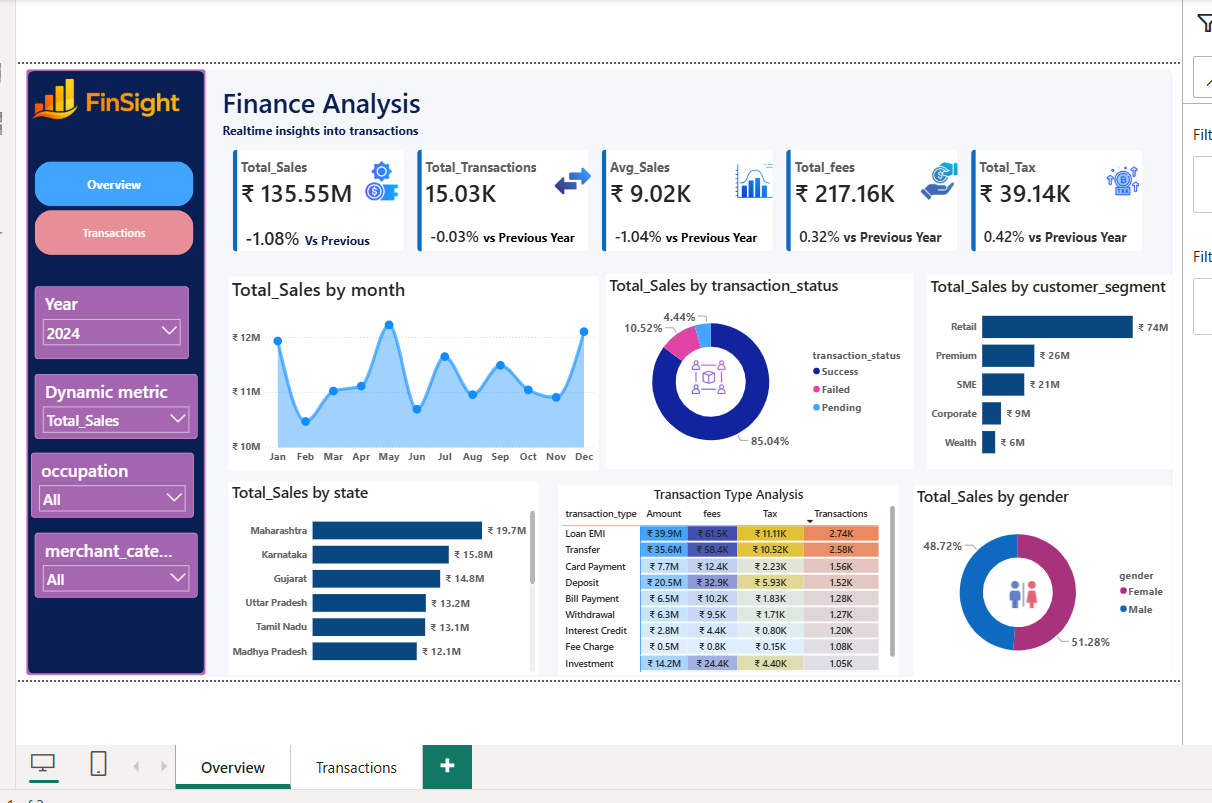

The page's visual inventory and layout, read from the dashboard file:
{"tool":"powerbi","page":{"name":"Overview","canvas":[1800,950],"ordinal":0},"visuals":[{"type":"shape","box":[15.4,7.7,277.9,935.9],"z":0},{"type":"shape","box":[293.3,9.6,1491.6,935.9],"z":1000},{"type":"image","box":[14.7,0,251.8,109.6],"z":2000},{"type":"cardVisual","fields":{"Data":["customers.Dashboard Title"]},"box":[312.6,19.3,422.6,106.1],"z":3000},{"type":"cardVisual","fields":{"Data":["measures (2).Total_Sales","measures (2).Total_Transactions","measures (2).Avg_Sales","measures (2).Total_fees","measures (2).Total_Tax"]},"box":[328,125.4,1420.2,170],"z":4000},{"type":"slicer","fields":{"Values":["calender table.Year"]},"box":[28.9,343.5,237.4,111.9],"z":5000},{"type":"image","box":[524.9,150.5,79.1,59.8],"z":6000},{"type":"image","box":[820.1,150.5,79.1,59.8],"z":7000},{"type":"image","box":[1099.9,150.5,79.1,59.8],"z":8000},{"type":"image","box":[1385.5,150.5,79.1,59.8],"z":9000},{"type":"image","box":[1669.2,150.5,79.1,59.8],"z":10000},{"type":"slicer","fields":{"Values":["Dynamic metric.Dynamic metric"]},"box":[28.9,478.6,250.9,100.3],"z":11000},{"type":"areaChart","fields":{"Y":["measures (2).Total_Sales"],"Category":["calender table.month"]},"box":[328,328,571.2,299.1],"z":12000},{"type":"donutChart","fields":{"Y":["measures (2).Total_Sales"],"Category":["finance_transactions.transaction_status"]},"box":[910.8,324.2,474.7,301],"z":13000},{"type":"clusteredBarChart","fields":{"Y":["measures (2).Total_Sales"],"Category":["customers.customer_segment"]},"box":[1406.7,326.1,378.2,299.1],"z":14000},{"type":"clusteredBarChart","fields":{"Y":["measures (2).Total_Sales"],"Category":["customers.state"]},"box":[328,644.5,478.6,299.1],"z":15000},{"type":"pivotTable","title":"Transaction Type Analysis","fields":{"Rows":["finance_transactions.transaction_type"],"Values":["measures (2).Total_Sales","measures (2).Total_fees","measures (2).Total_Tax","measures (2).Total_Transactions"]},"box":[837.5,650.3,524.9,293.3],"z":16000},{"type":"donutChart","fields":{"Y":["measures (2).Total_Sales"],"Category":["customers.gender"]},"box":[1385.5,650.3,399.4,299.1],"z":17000},{"type":"image","box":[1038.2,455.4,61.7,56],"z":18000},{"type":"image","box":[1524.4,795,61.7,48.2],"z":19000},{"type":"slicer","fields":{"Values":["customers.occupation"]},"box":[23.2,600.1,250.9,100.3],"z":20000},{"type":"slicer","fields":{"Values":["finance_transactions.merchant_category"]},"box":[28.9,723.6,250.9,100.3],"z":21000},{"type":"pageNavigator","box":[28.9,150.5,245.1,144.7],"z":22000}]}

Visuals, with their boxes on the page's 1800x950 design canvas (x1, y1, x2, y2). These are canvas units, not pixel positions in the 1212x803 screenshot, which may show the page scaled, cropped or inside an application window:
shape: (left=15, top=8, right=293, bottom=944)
shape: (left=293, top=10, right=1785, bottom=946)
image: (left=15, top=0, right=266, bottom=110)
cardVisual - customers.Dashboard Title: (left=313, top=19, right=735, bottom=125)
cardVisual - measures (2).Total_Sales x measures (2).Total_Transactions: (left=328, top=125, right=1748, bottom=295)
slicer - calender table.Year: (left=29, top=344, right=266, bottom=455)
image: (left=525, top=150, right=604, bottom=210)
image: (left=820, top=150, right=899, bottom=210)
image: (left=1100, top=150, right=1179, bottom=210)
image: (left=1386, top=150, right=1465, bottom=210)
image: (left=1669, top=150, right=1748, bottom=210)
slicer - Dynamic metric.Dynamic metric: (left=29, top=479, right=280, bottom=579)
areaChart - measures (2).Total_Sales x calender table.month: (left=328, top=328, right=899, bottom=627)
donutChart - measures (2).Total_Sales x finance_transactions.transaction_status: (left=911, top=324, right=1386, bottom=625)
clusteredBarChart - measures (2).Total_Sales x customers.customer_segment: (left=1407, top=326, right=1785, bottom=625)
clusteredBarChart - measures (2).Total_Sales x customers.state: (left=328, top=644, right=807, bottom=944)
"Transaction Type Analysis" pivotTable: (left=838, top=650, right=1362, bottom=944)
donutChart - measures (2).Total_Sales x customers.gender: (left=1386, top=650, right=1785, bottom=949)
image: (left=1038, top=455, right=1100, bottom=511)
image: (left=1524, top=795, right=1586, bottom=843)
slicer - customers.occupation: (left=23, top=600, right=274, bottom=700)
slicer - finance_transactions.merchant_category: (left=29, top=724, right=280, bottom=824)
pageNavigator: (left=29, top=150, right=274, bottom=295)
